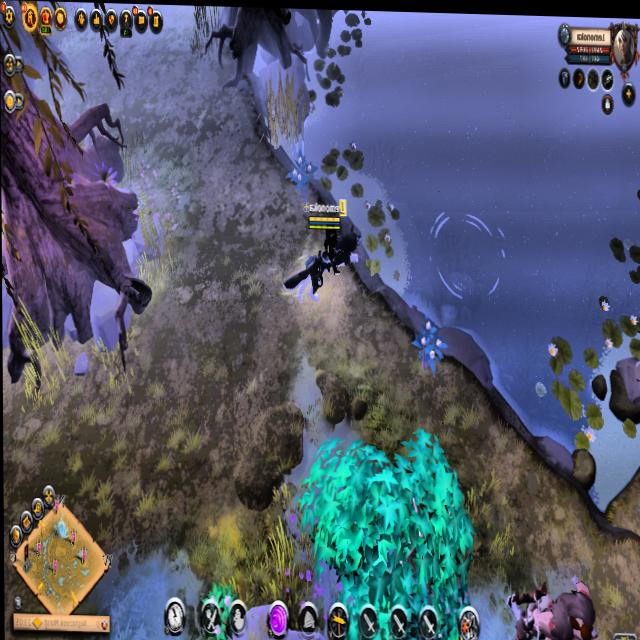fiber tier 4: (410, 310, 446, 376), (285, 147, 315, 201)
fish: (426, 197, 508, 306)
